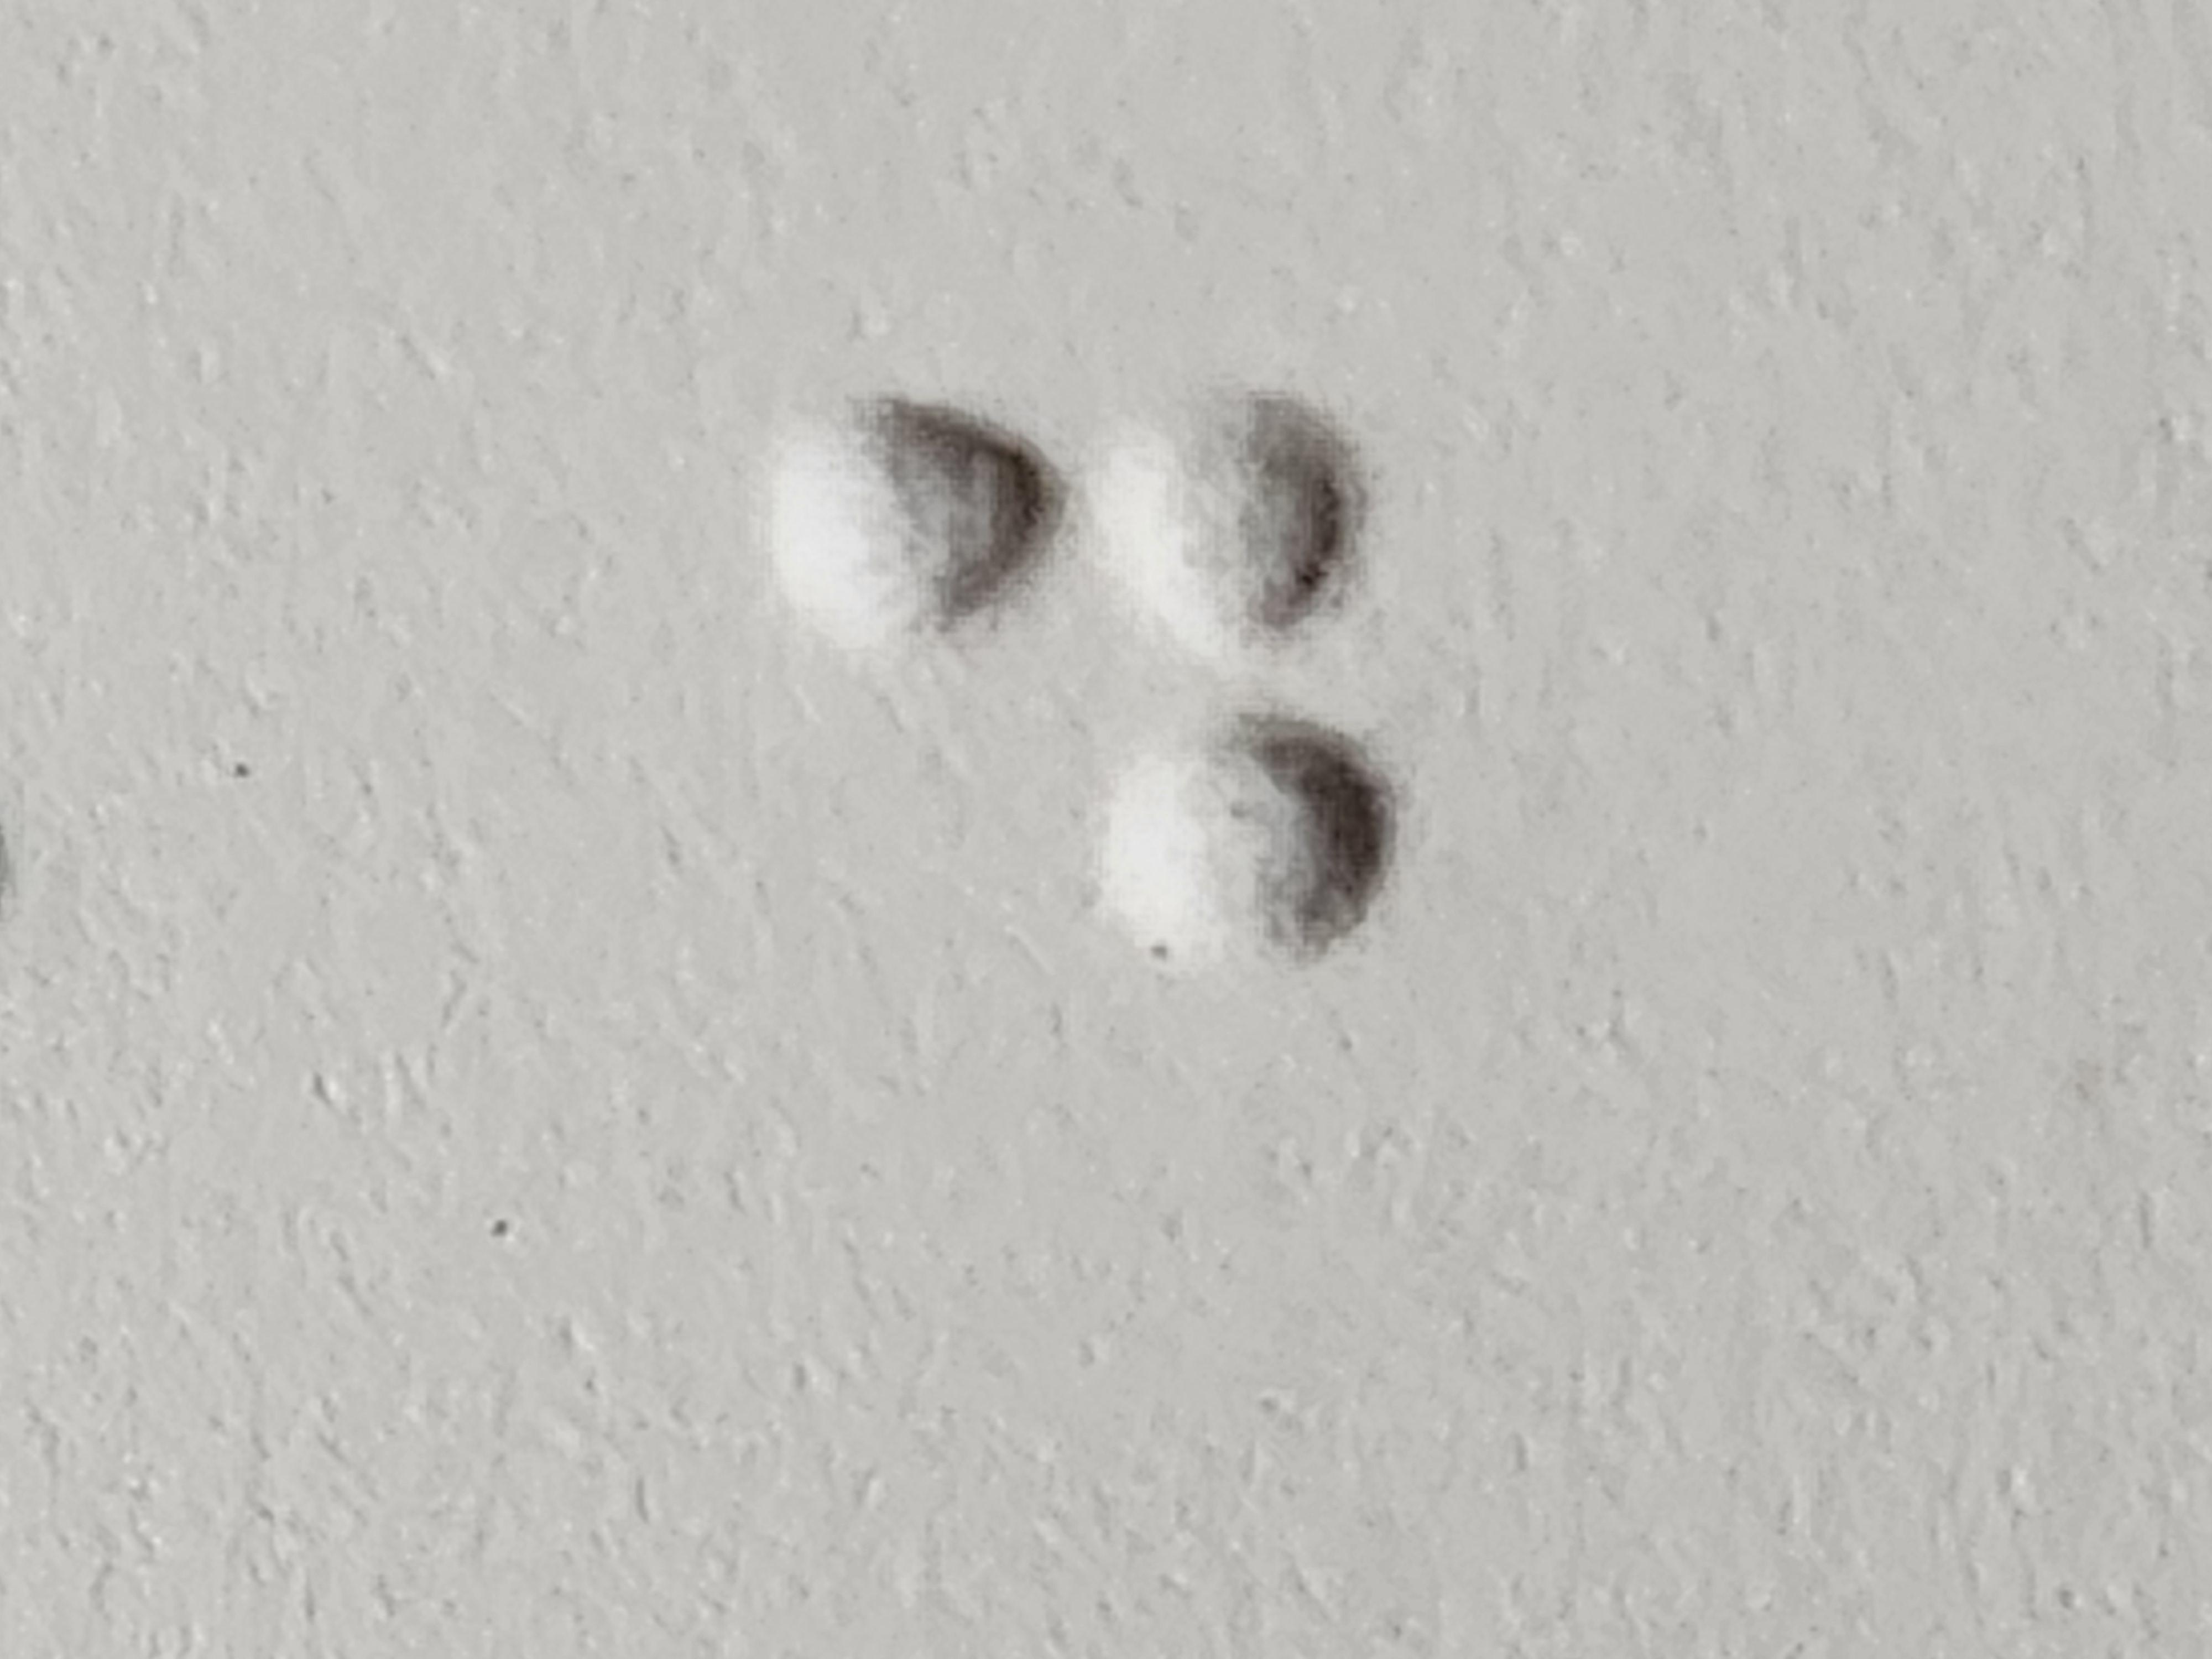one_cell_alphabet_hakbang: (921, 577, 1700, 1293)
